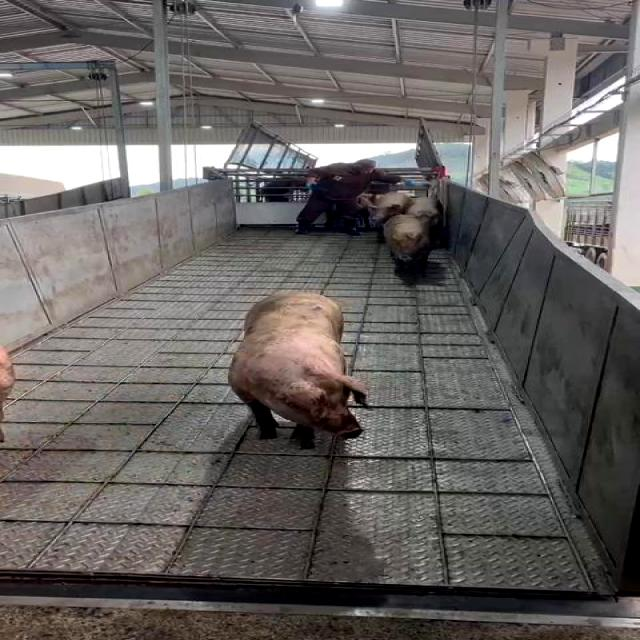pig: (229, 292, 367, 447), (385, 215, 432, 274), (0, 345, 15, 442)
